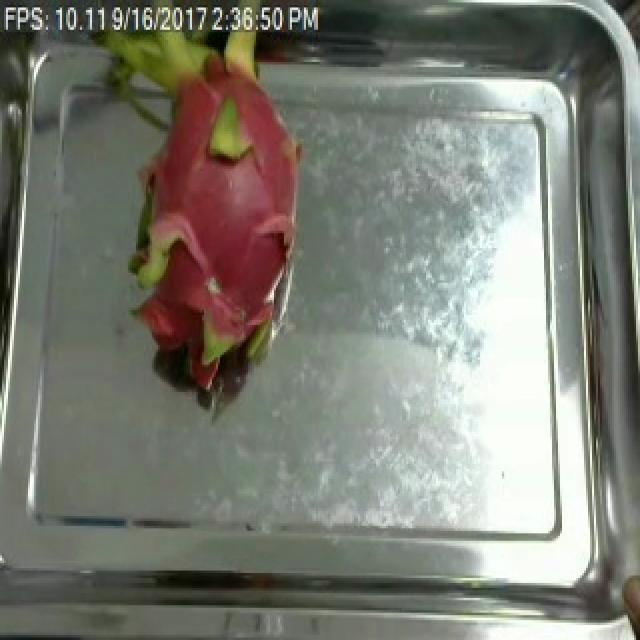fruit: (84, 5, 314, 409)
